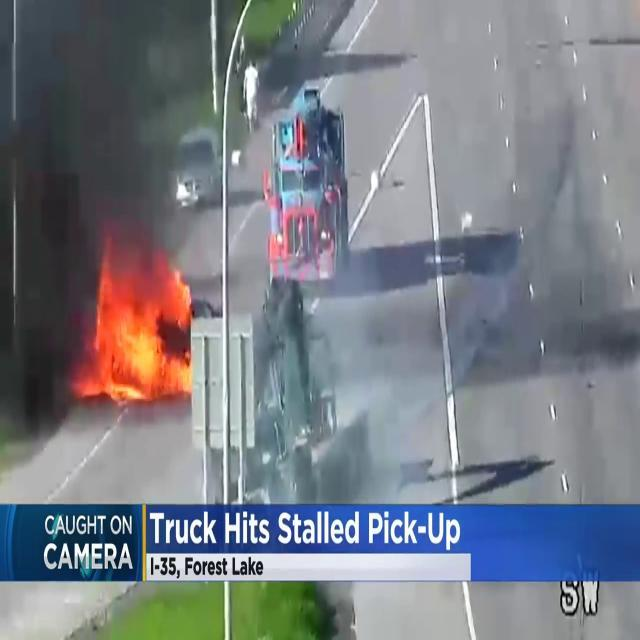Fire: (79, 248, 197, 403)
Smoke: (0, 1, 198, 279), (486, 0, 610, 342), (304, 237, 481, 466)
